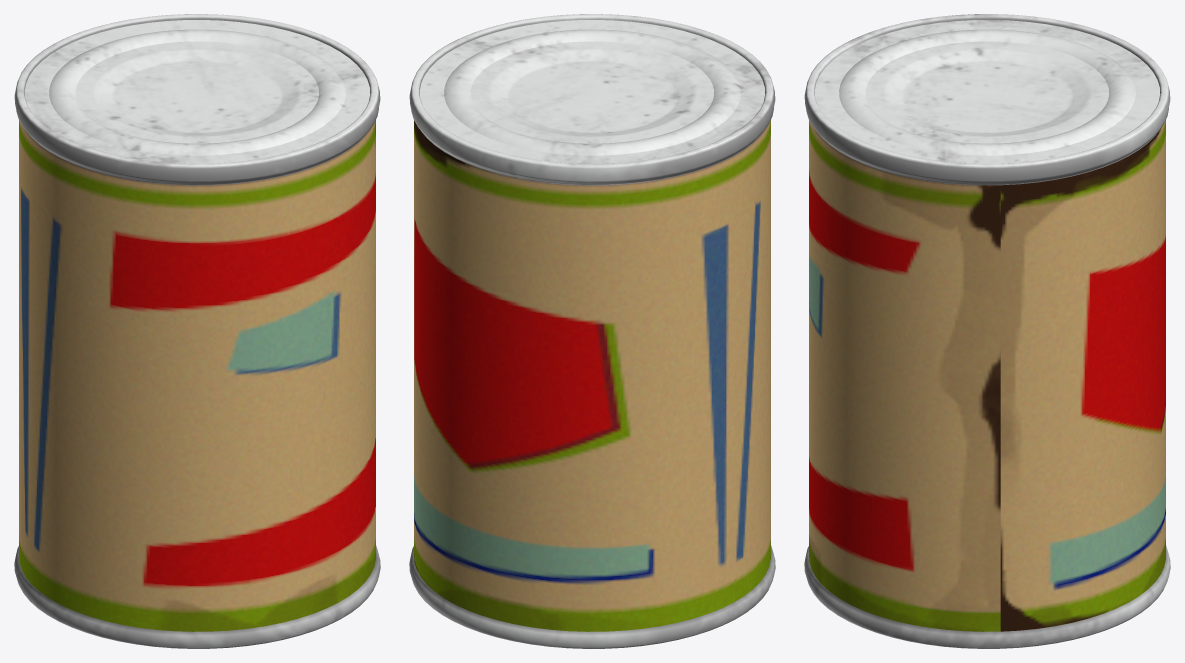
The model's file is SM_FoodCan09.fbx.
The picture shows the model from 3 angles, left to right: view 1: azimuth 30°, elevation 25°; view 2: azimuth 150°, elevation 25°; view 3: azimuth 270°, elevation 25°; orthographic projection.
Visible parts, largest first — view 1: SM_FoodCan09_LOD0; view 2: SM_FoodCan09_LOD0; view 3: SM_FoodCan09_LOD0.
Boxes of the visible parts, x1,y1,x2,y2 form: SM_FoodCan09_LOD0: [14, 14, 380, 648]; SM_FoodCan09_LOD0: [409, 14, 775, 648]; SM_FoodCan09_LOD0: [804, 14, 1170, 648].
Bounding box in the file's own units: 10.33 × 10.33 × 15.16.
Materials: 1 (1 with a texture image).
